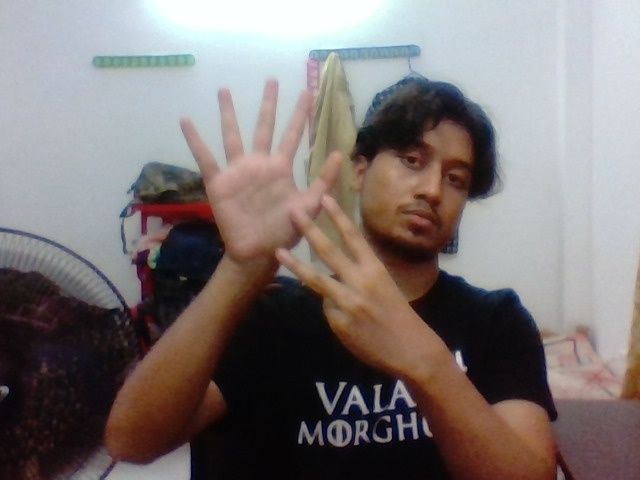M: (156, 70, 395, 352)
